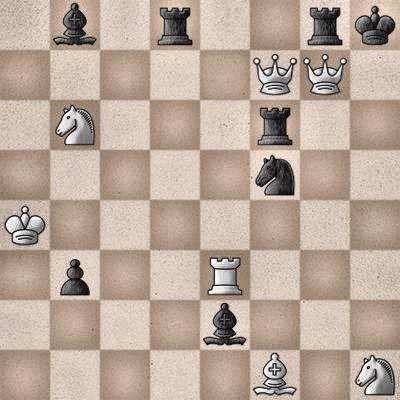black-bishop: (50, 0, 100, 50), (200, 300, 250, 350)
black-king: (350, 0, 400, 50)
black-knight: (250, 150, 300, 200)
black-pawn: (50, 250, 100, 300)
black-rook: (150, 0, 200, 50), (300, 0, 350, 50), (250, 100, 300, 150)
white-bishop: (250, 350, 300, 400)
white-king: (0, 200, 50, 250)
white-knight: (50, 100, 100, 150), (350, 350, 400, 400)
white-queen: (250, 50, 300, 100), (300, 50, 350, 100)
white-rook: (200, 250, 250, 300)
